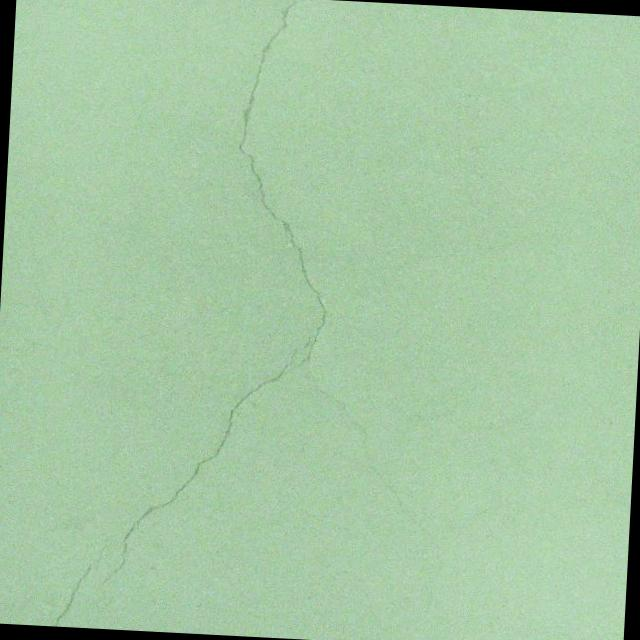crack: (80, 0, 589, 636), (52, 520, 121, 630), (227, 144, 244, 170)
